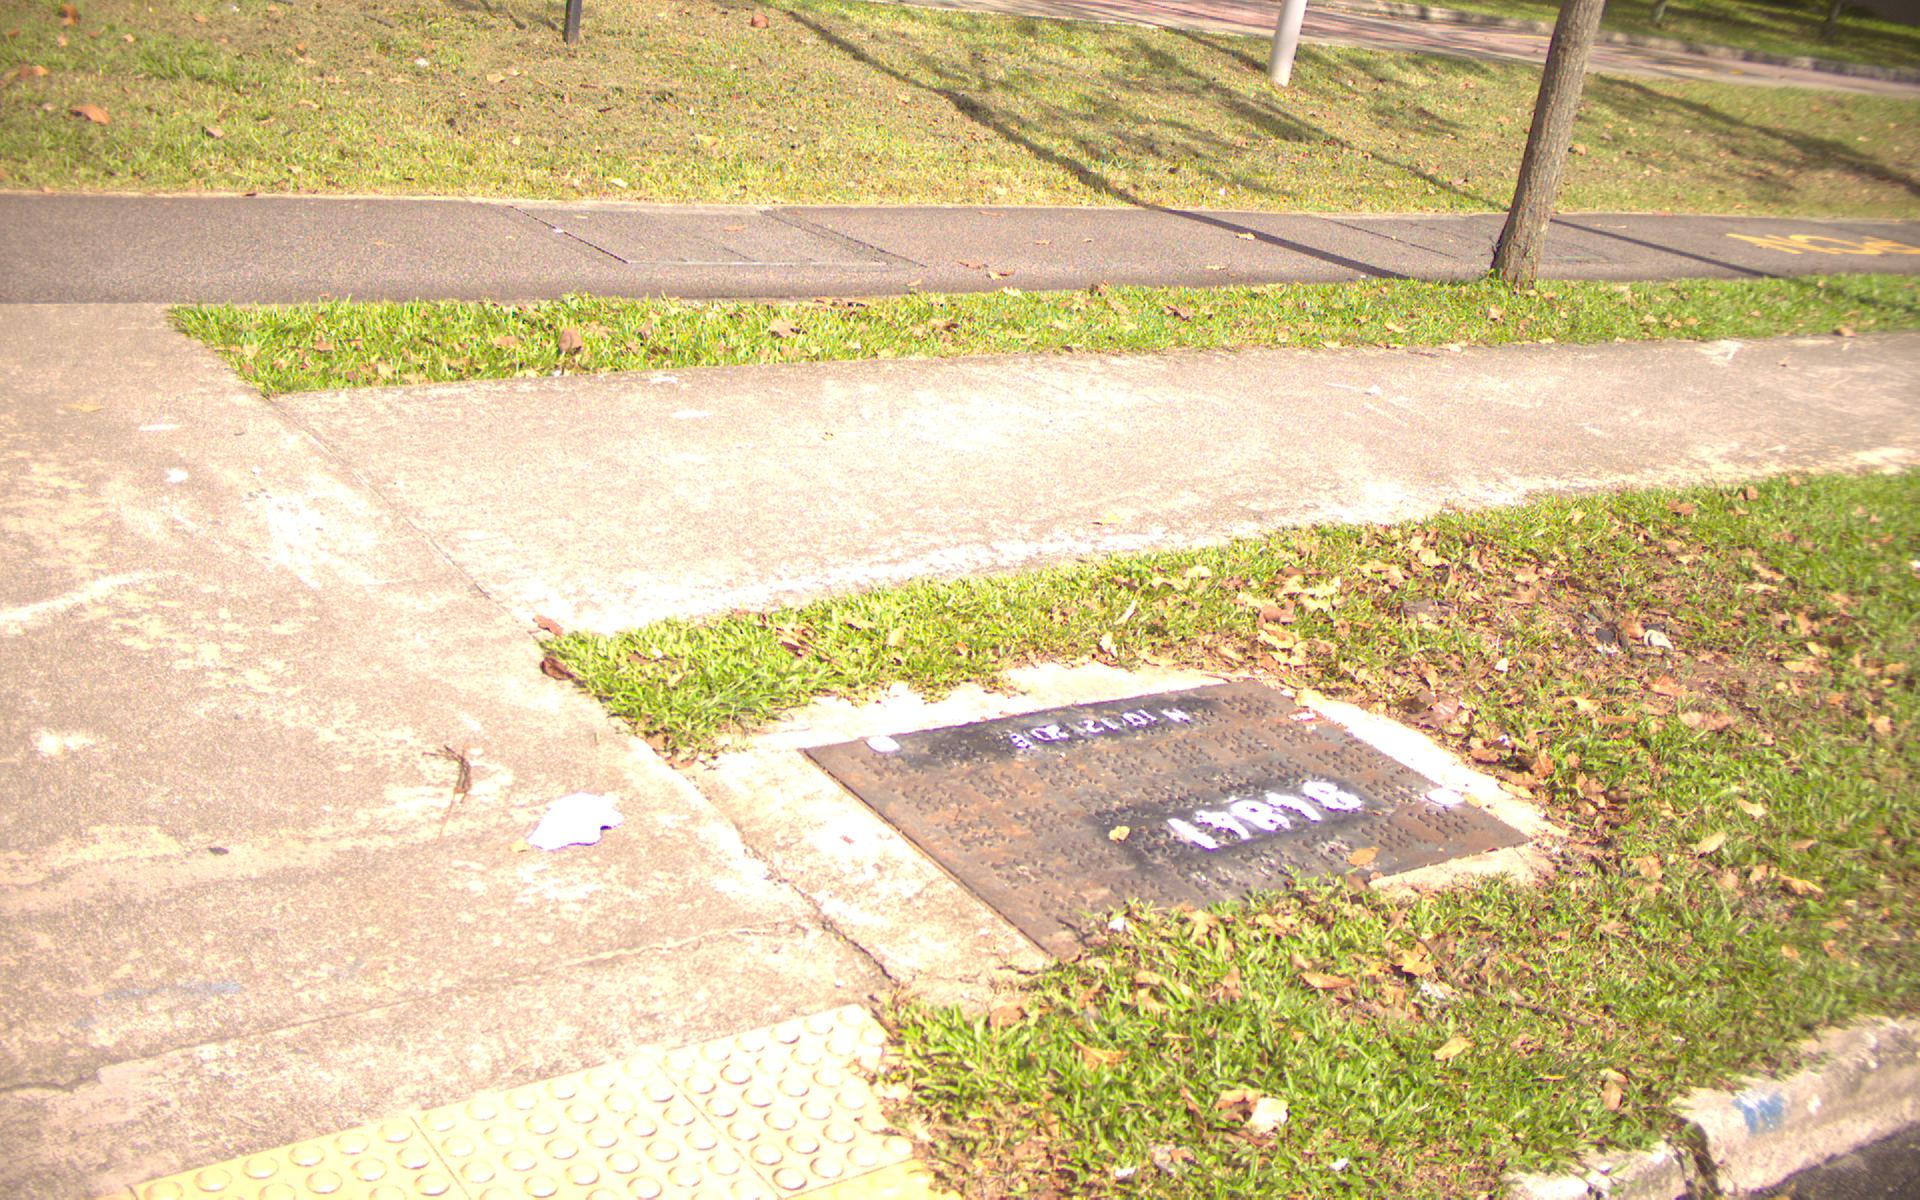pathway_low: (4, 579, 540, 1182), (164, 368, 1920, 476), (35, 210, 1920, 283)
road_turf_low: (1532, 514, 1910, 1005), (775, 286, 1920, 335)
